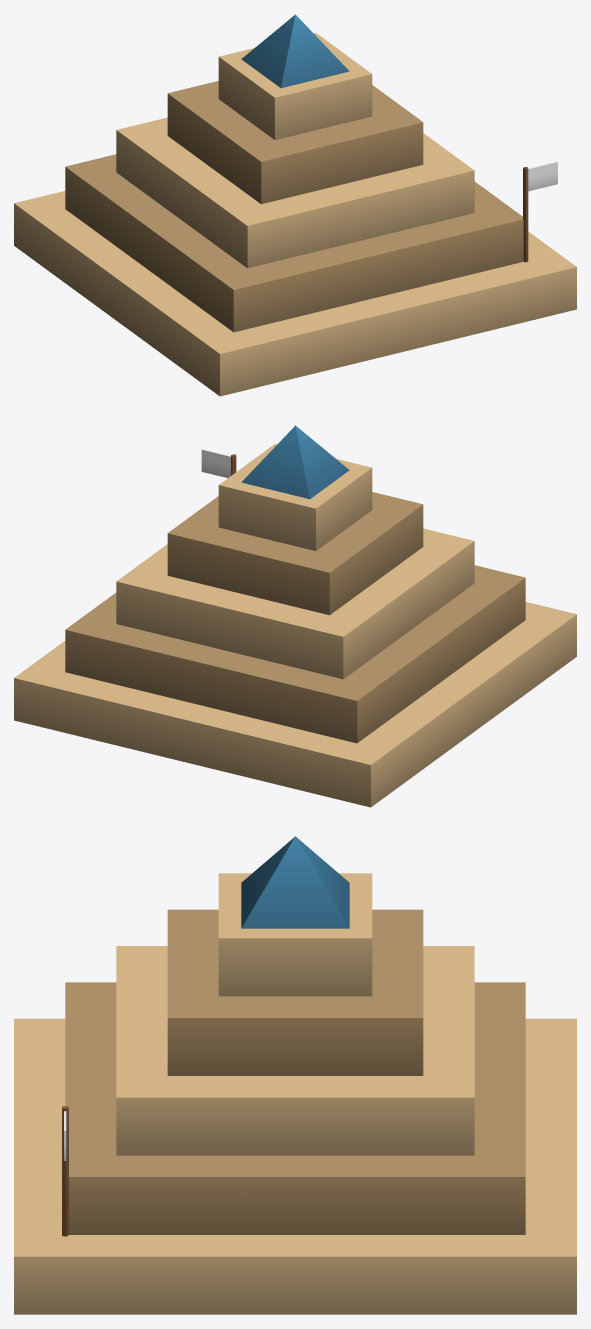
File: BASE_EGYPTIAN.glb
3 views of the same model, one above another, from view 1: azimuth 30°, elevation 25°; view 2: azimuth 150°, elevation 25°; view 3: azimuth 270°, elevation 25° (orthographic). The views are drawn at different scales.
Parts seen in each view (by area): view 1: Body, Flag; view 2: Body, Flag; view 3: Body.
Part boxes in pixels (left/top/right/bottom): Body: left=14, top=14, right=576, bottom=396; Flag: left=528, top=161, right=557, bottom=191; Body: left=14, top=425, right=576, bottom=807; Flag: left=201, top=449, right=230, bottom=477; Body: left=14, top=836, right=576, bottom=1314.
Size of the model in its own units: 4.4 by 3.1 by 4.4.
1 material, 1 textured.
